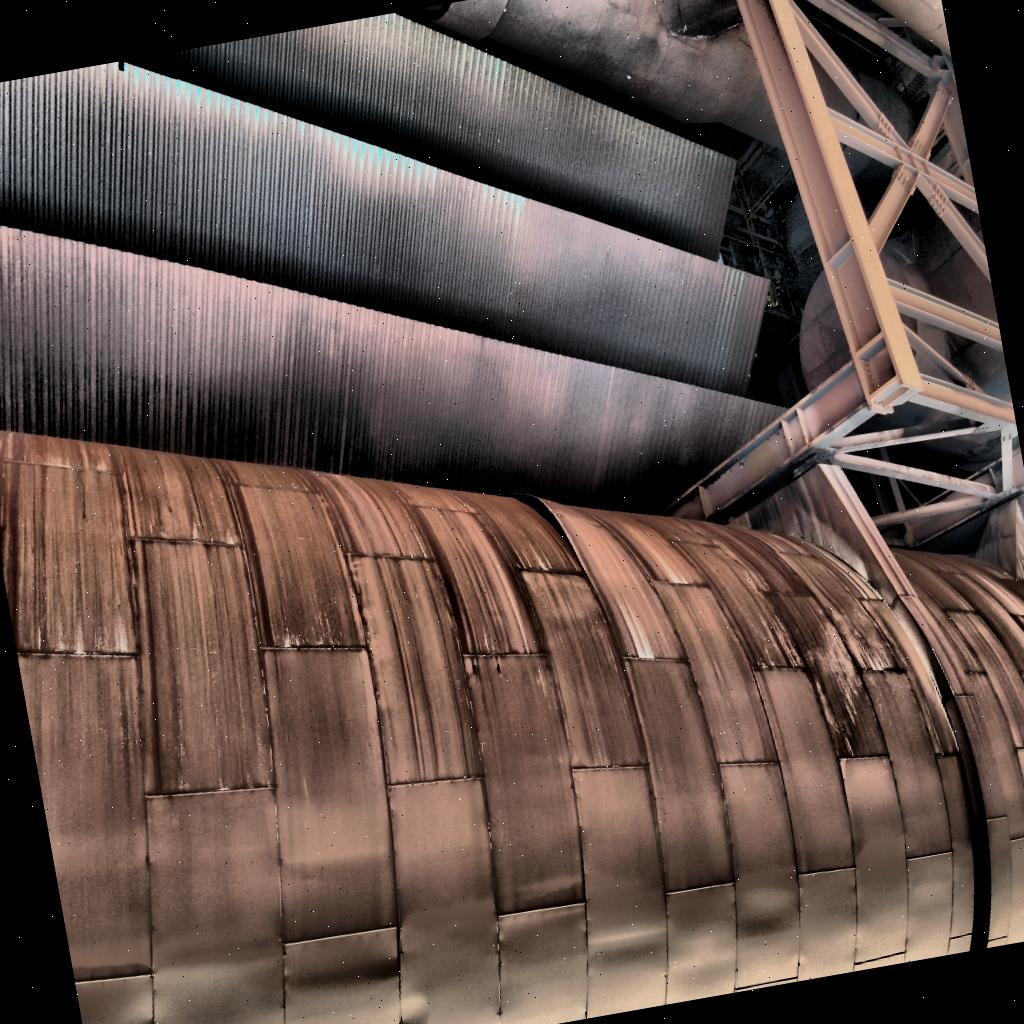Failures: (497, 455, 658, 690)
